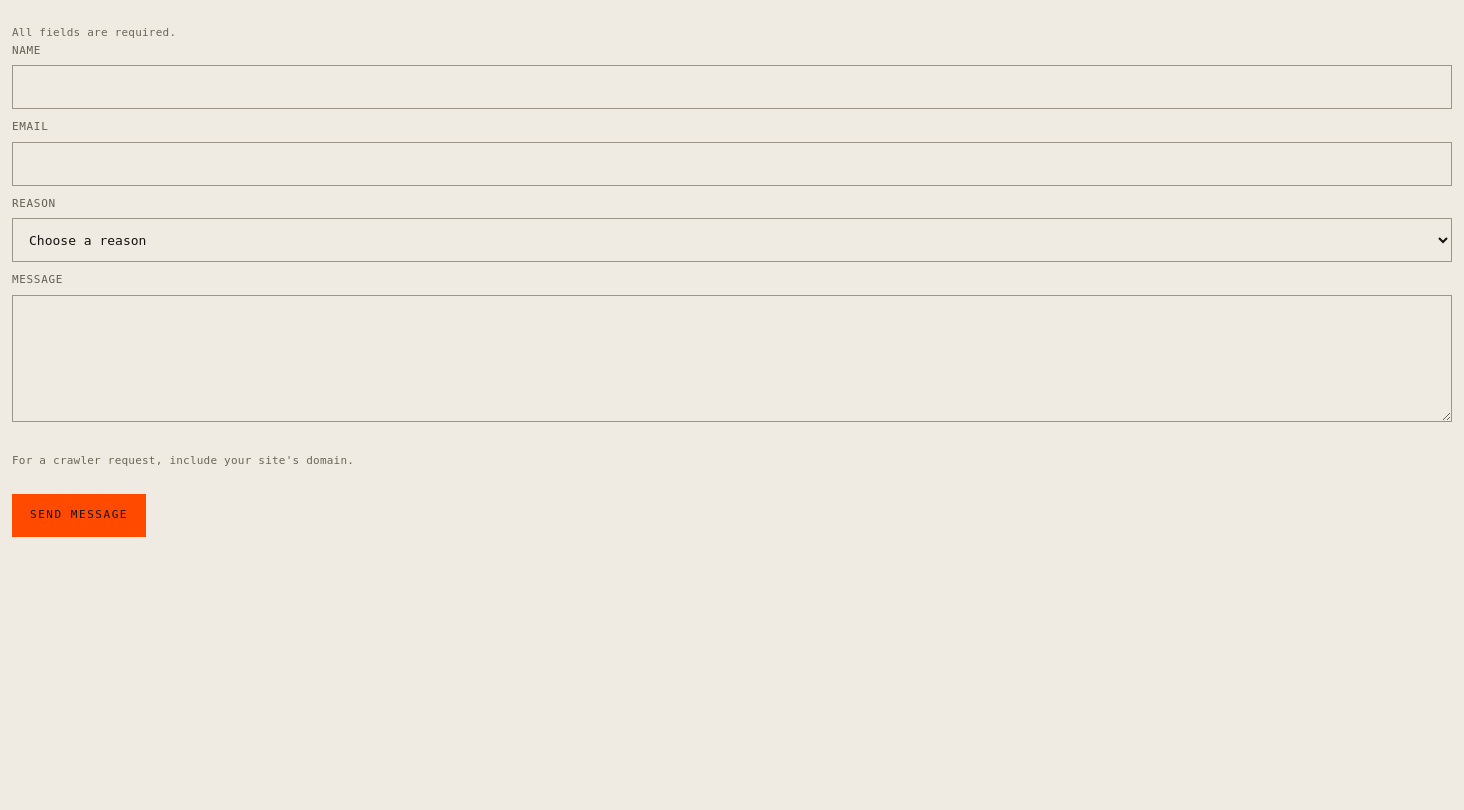
/contact › shows a clear failure state and keeps the message
Type "Site Owner" into the field labelled "Name" at (732, 87), box [12,65,1452,109]
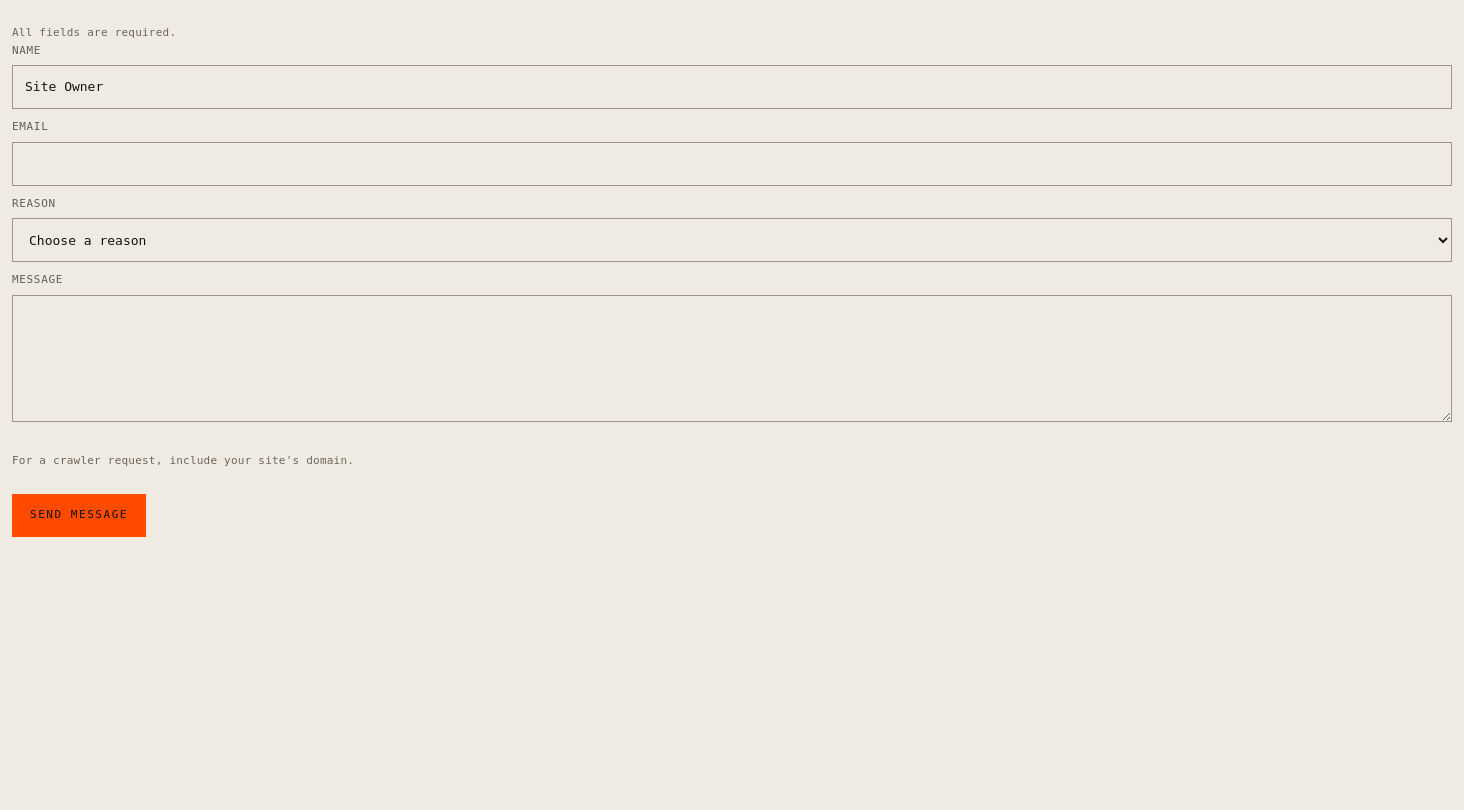
Type "owner@example.com" into the field labelled "Email" at (732, 164), box [12,142,1452,186]
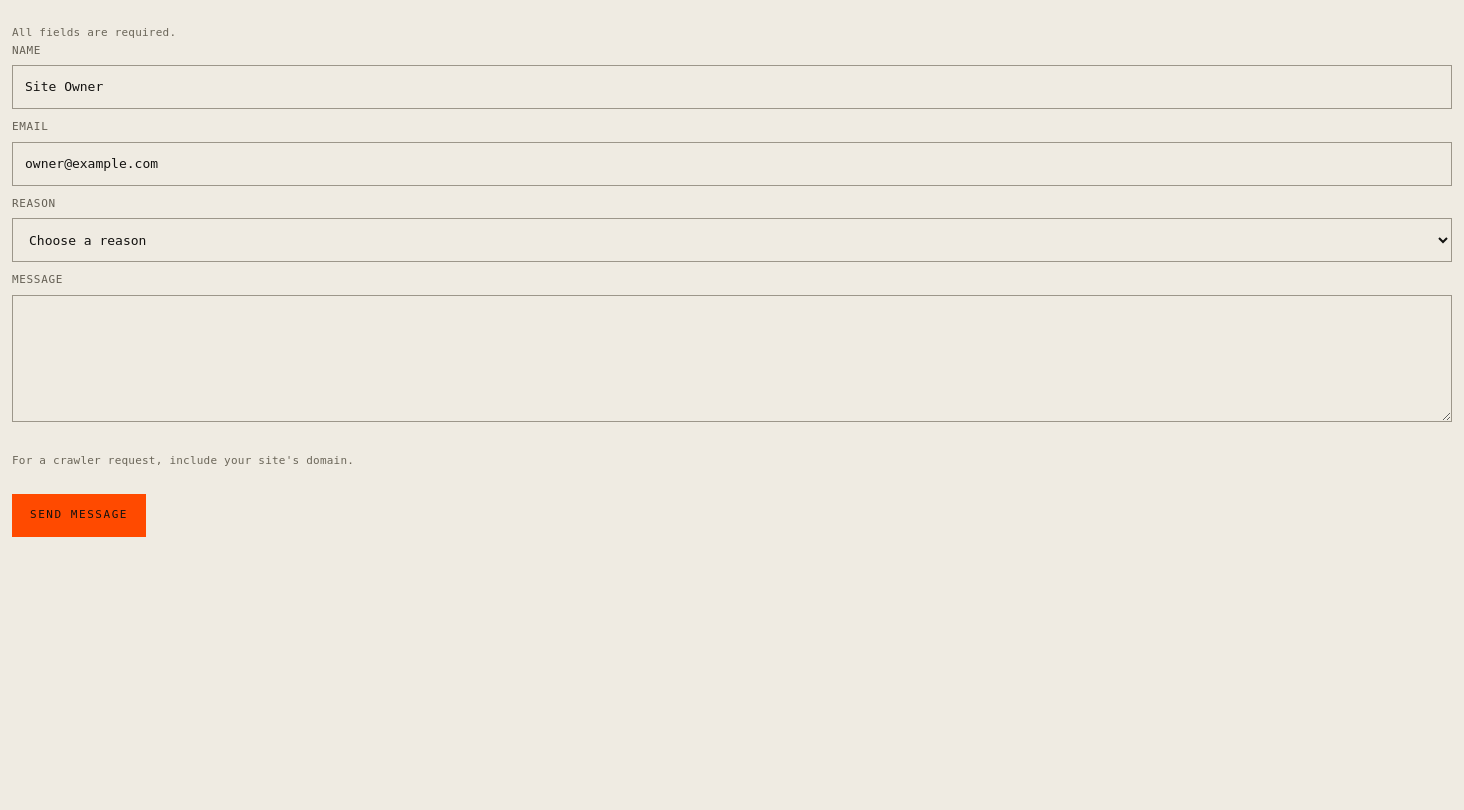
Select "Crawler opt-out / rate-limit request" in the dropdown labelled "Reason" at (732, 240), box [12,218,1452,262]
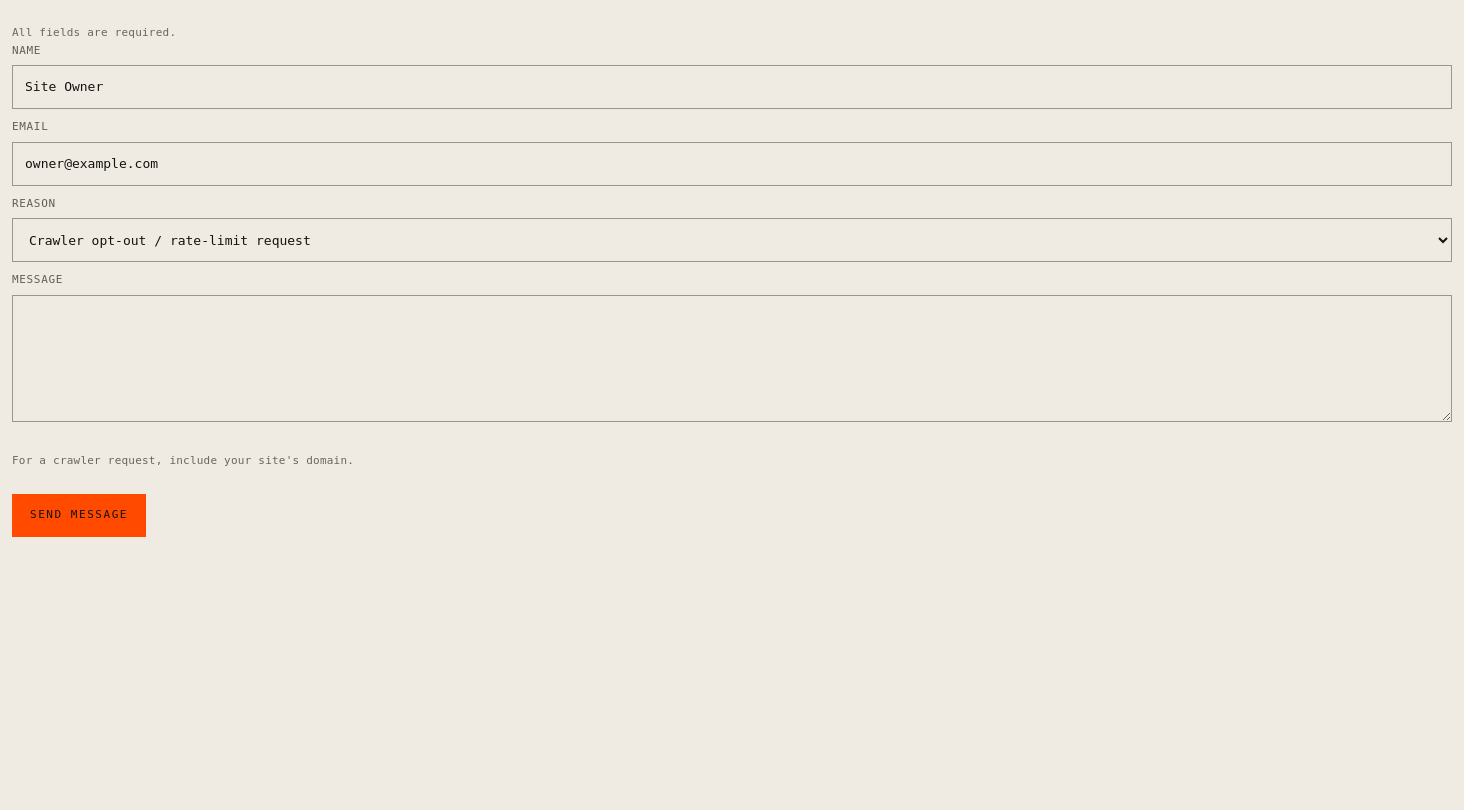
Type "Please exclude example.com." into the text box labelled "Message" at (732, 358), box [12,295,1452,422]
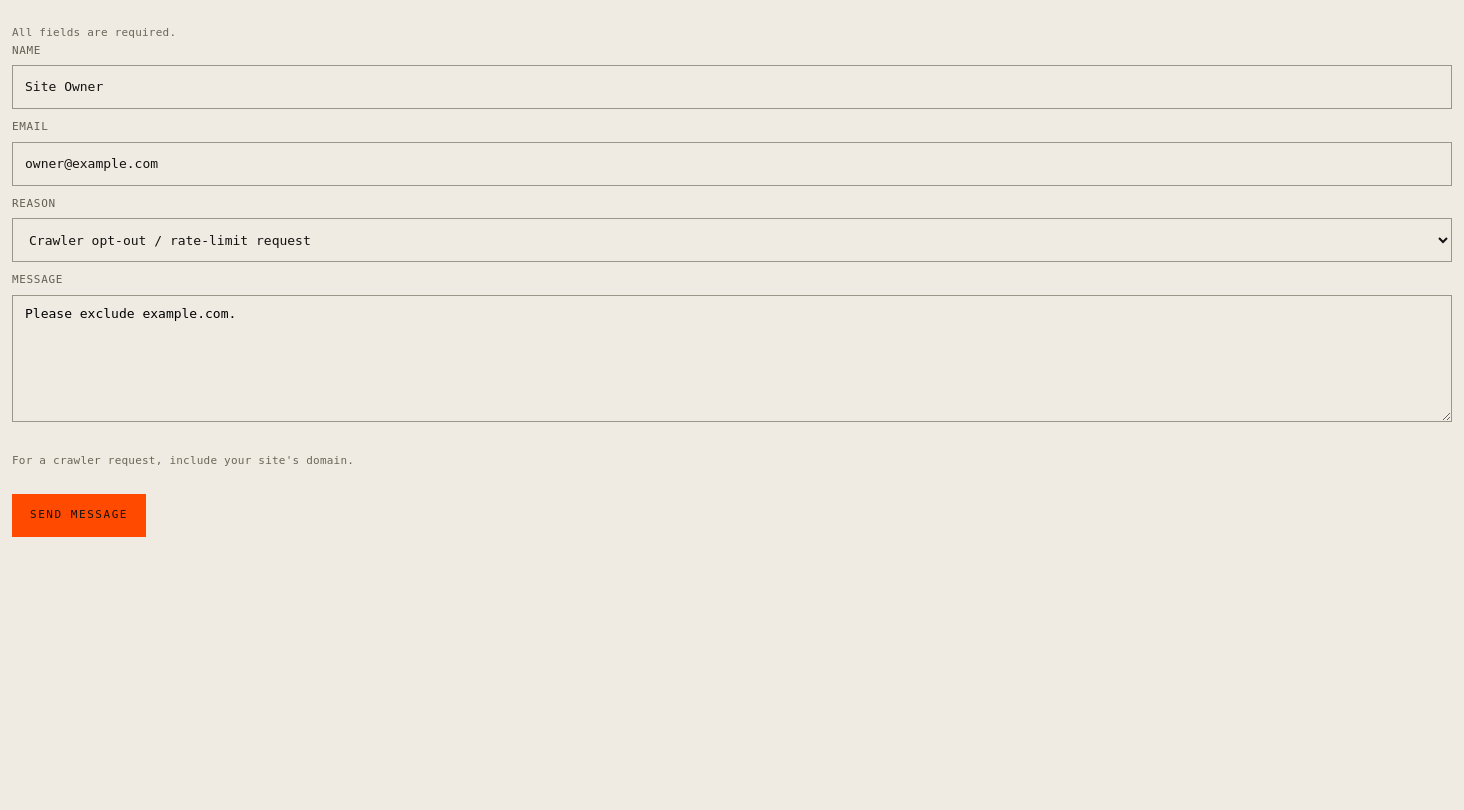
Click the button "Send message" at (79, 516), box [12,494,146,537]
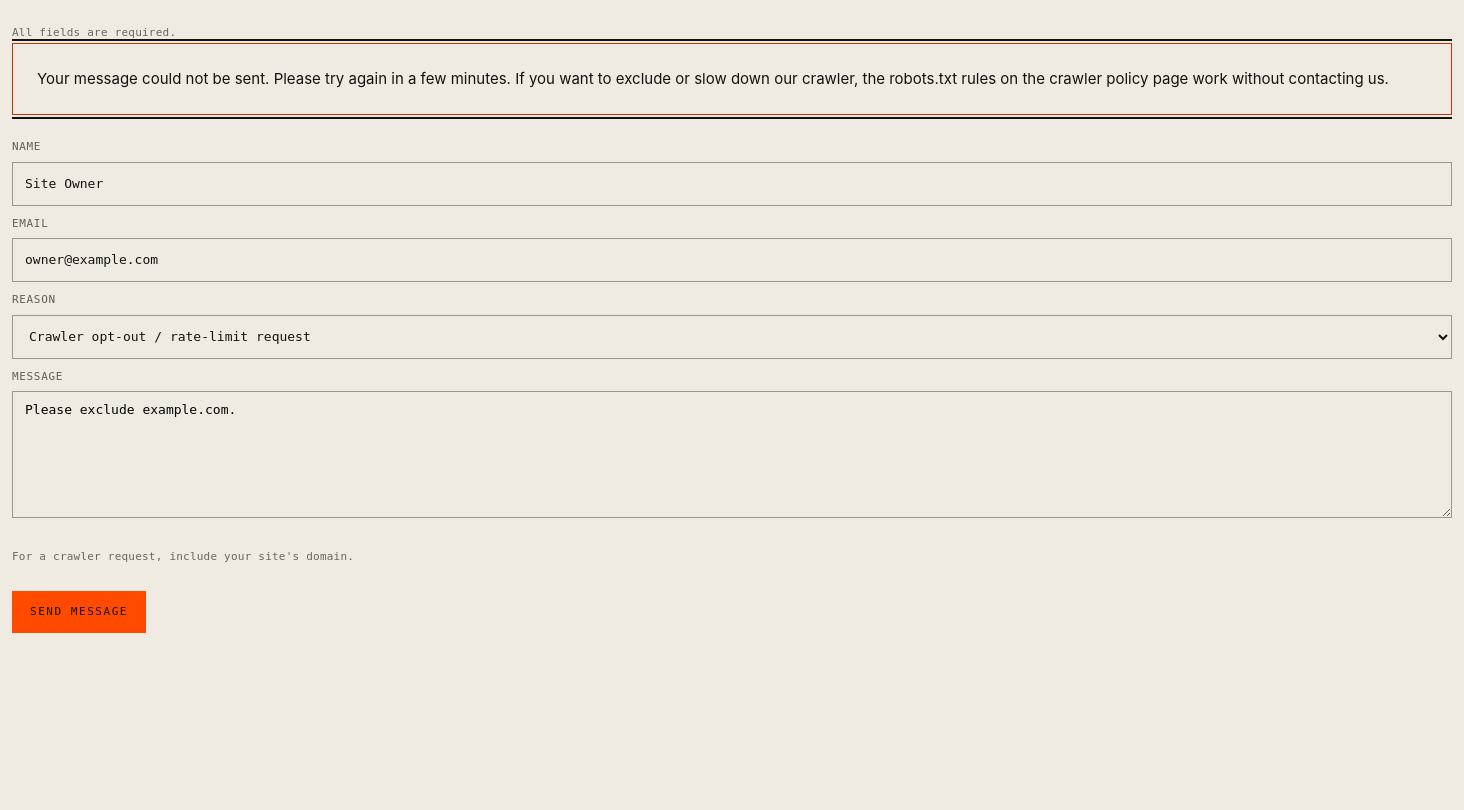
Expected: the button "Send message" is shown, [12,591,146,633]
Result: the message shows "could not be sent" at [37,69,1389,88]
